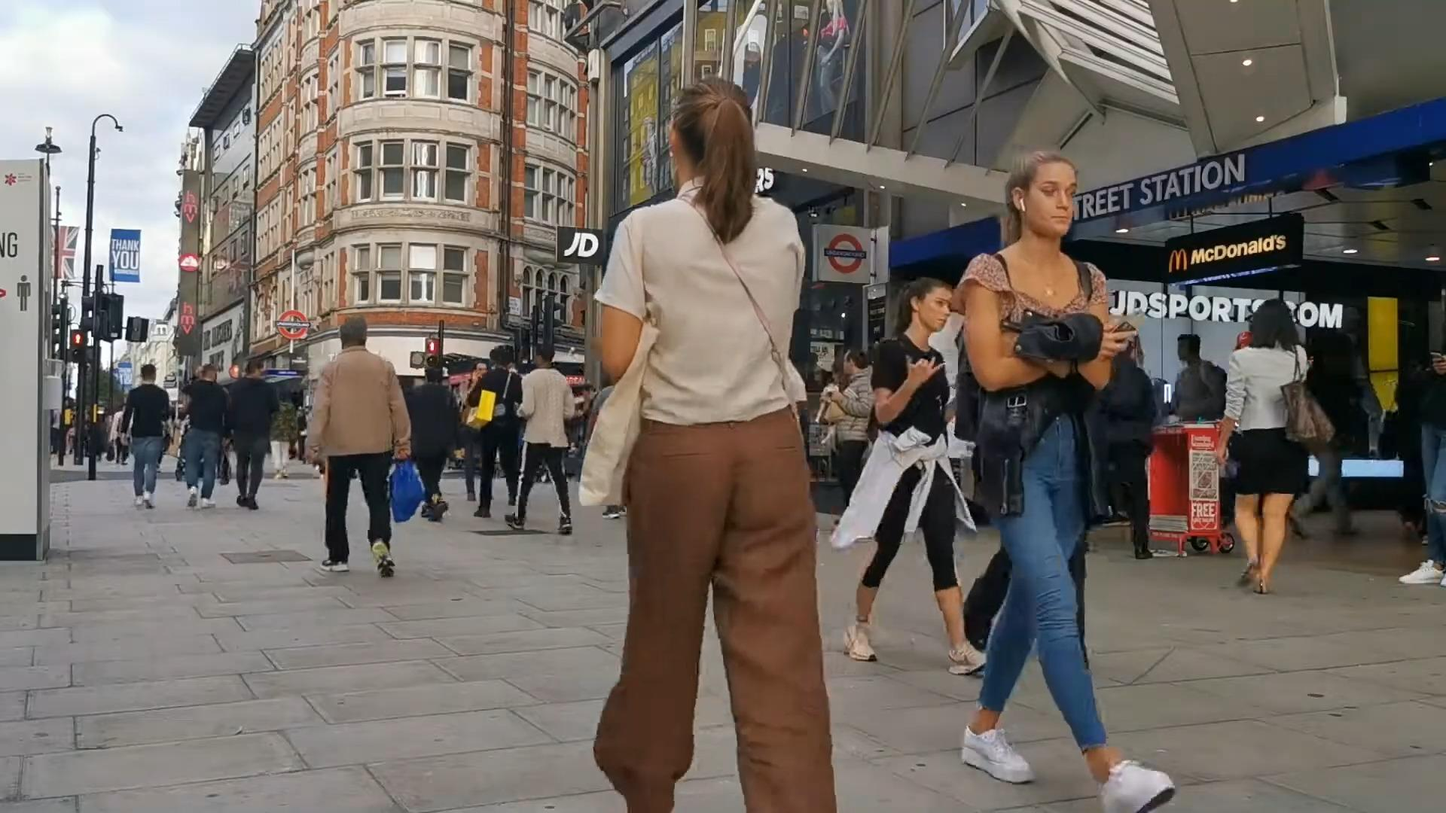no-helmet: (668, 75, 759, 245), (1002, 147, 1078, 252), (894, 276, 951, 337), (1249, 297, 1302, 354), (339, 314, 367, 349), (842, 345, 868, 375), (534, 343, 555, 368)
